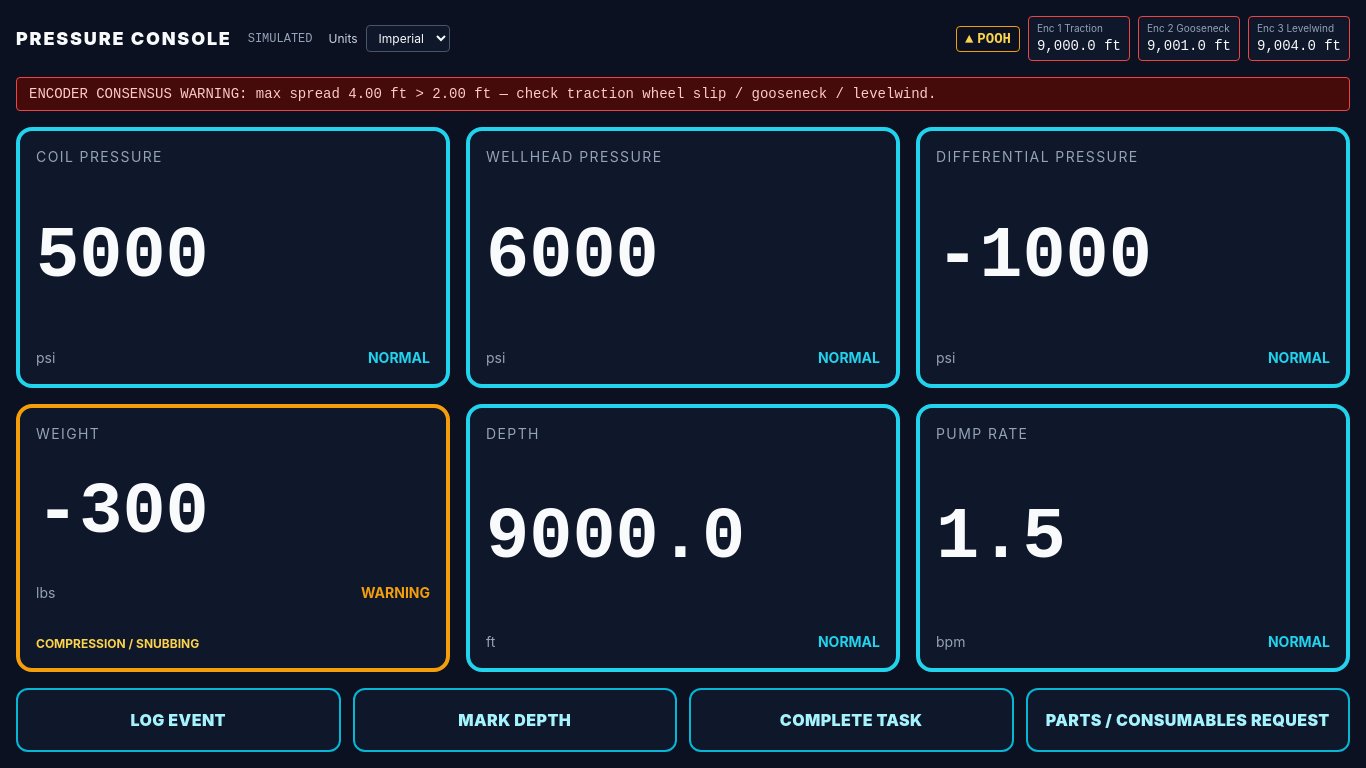
renders six digital tiles, no dials, compression sign and quick actions
Later steps or results of the test are not shown.
Check: the element with test id "tile-weight" shows "-300", box [36,472,209,554]
Check: the element with test id "tile-diff" shows "-1000", box [936,216,1152,298]
Click the button "LOG EVENT" at (178, 720), box [16,688,340,752]
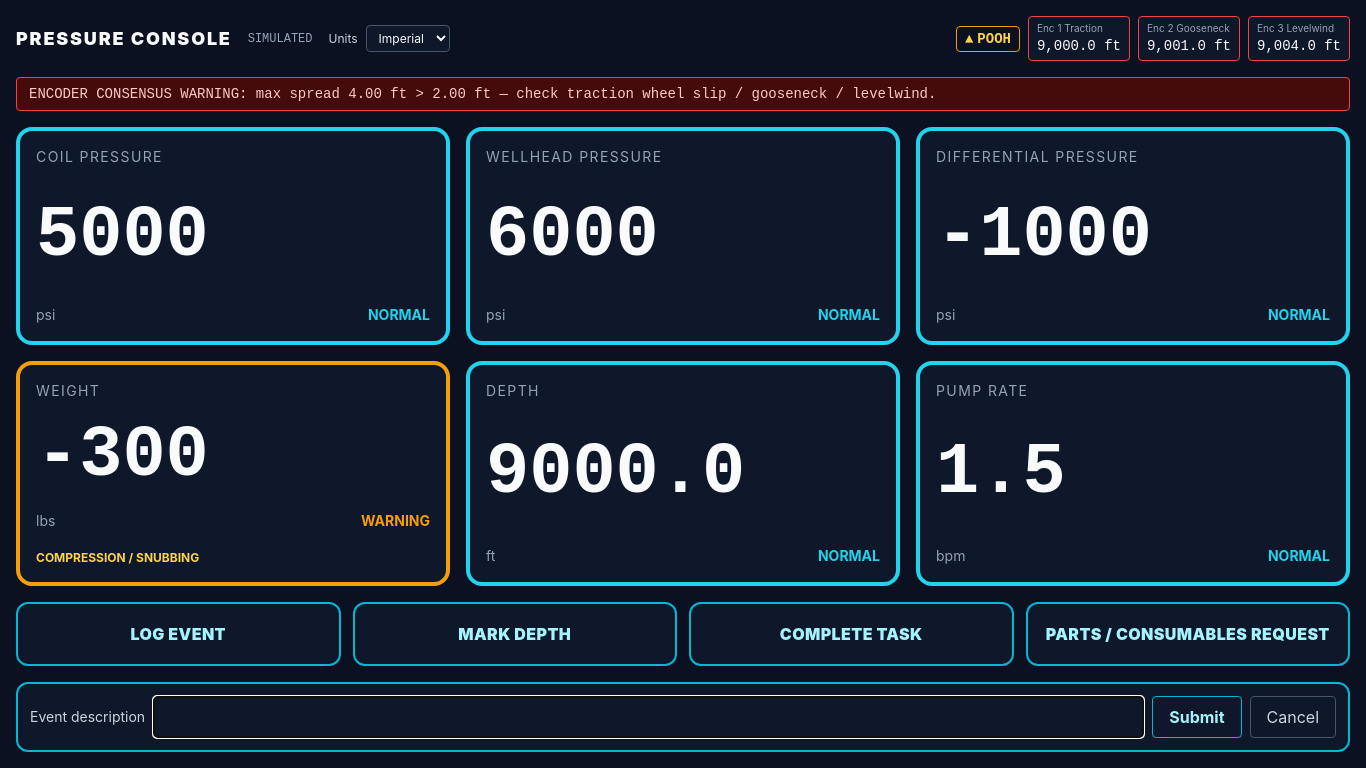
Check: the field labelled "Event description" is shown, box [153,696,1144,738]
